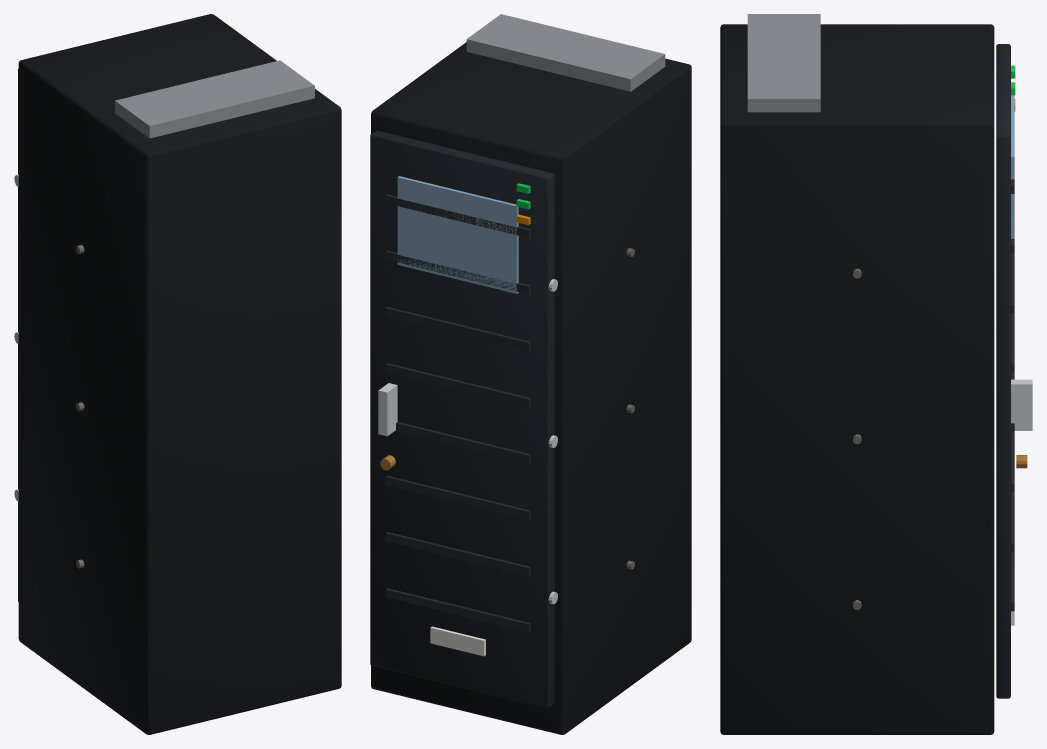
Rendered from hm_bank_security_cabinet_v2.obj.
3 views of the same model, side by side, from view 1: azimuth 30°, elevation 25°; view 2: azimuth 150°, elevation 25°; view 3: azimuth 270°, elevation 25° (orthographic). The views are drawn at different scales.
Visible parts, largest first — view 1: SC_Body, SC_Tray; view 2: SC_Body, SC_Door, SC_Win, SC_Tray, SC_Vent_4, SC_Vent_5, SC_Vent_0, SC_Vent_1, SC_Vent_2, SC_Vent_3, SC_Vent_7, SC_Vent_6 (+2 smaller); view 3: SC_Body, SC_Door, SC_Tray, SC_Handle, SC_Win.
Part boxes in pixels (x1,y1,x2,y2): SC_Body: (18, 14, 341, 734); SC_Tray: (115, 60, 314, 138); SC_Body: (371, 42, 691, 734); SC_Door: (370, 130, 554, 708); SC_Win: (397, 176, 518, 293); SC_Tray: (466, 14, 665, 91); SC_Vent_4: (385, 363, 530, 406); SC_Vent_5: (385, 307, 530, 350); SC_Vent_0: (385, 588, 530, 631); SC_Vent_1: (385, 532, 530, 575); SC_Vent_2: (385, 475, 530, 519); SC_Vent_3: (395, 422, 530, 463); SC_Vent_7: (385, 194, 530, 238); SC_Vent_6: (385, 250, 530, 294); SC_Body: (720, 24, 994, 734); SC_Door: (996, 44, 1010, 698); SC_Tray: (747, 14, 820, 112); SC_Handle: (1011, 379, 1032, 430); SC_Win: (1011, 95, 1014, 238).
Size of the model in its own units: 0.68 by 1.9 by 0.855.
